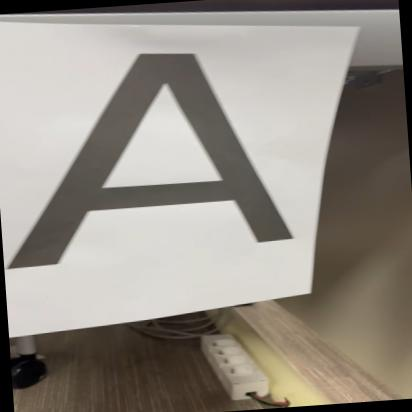seat: (0, 35, 300, 274)
